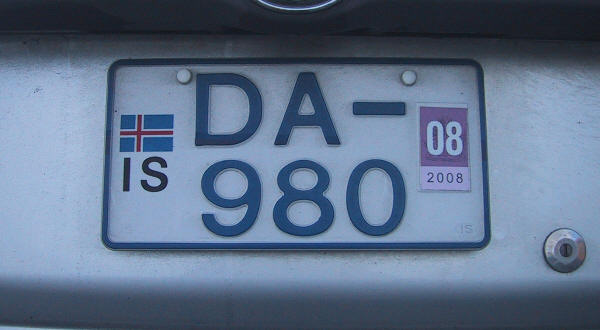license_plate: (102, 57, 490, 251)
